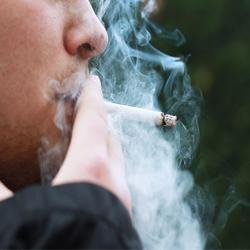smoking: (54, 80, 179, 129)
